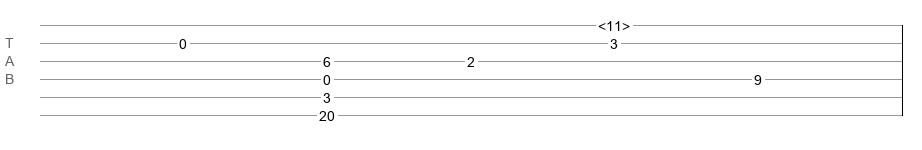0: (179, 36, 187, 46), (323, 72, 331, 82)
2: (467, 54, 475, 64)
20: (319, 108, 335, 118)
3: (323, 90, 331, 100), (610, 36, 618, 46)
6: (323, 54, 331, 64)
9: (754, 72, 762, 82)
harmonic: (598, 18, 630, 28)
